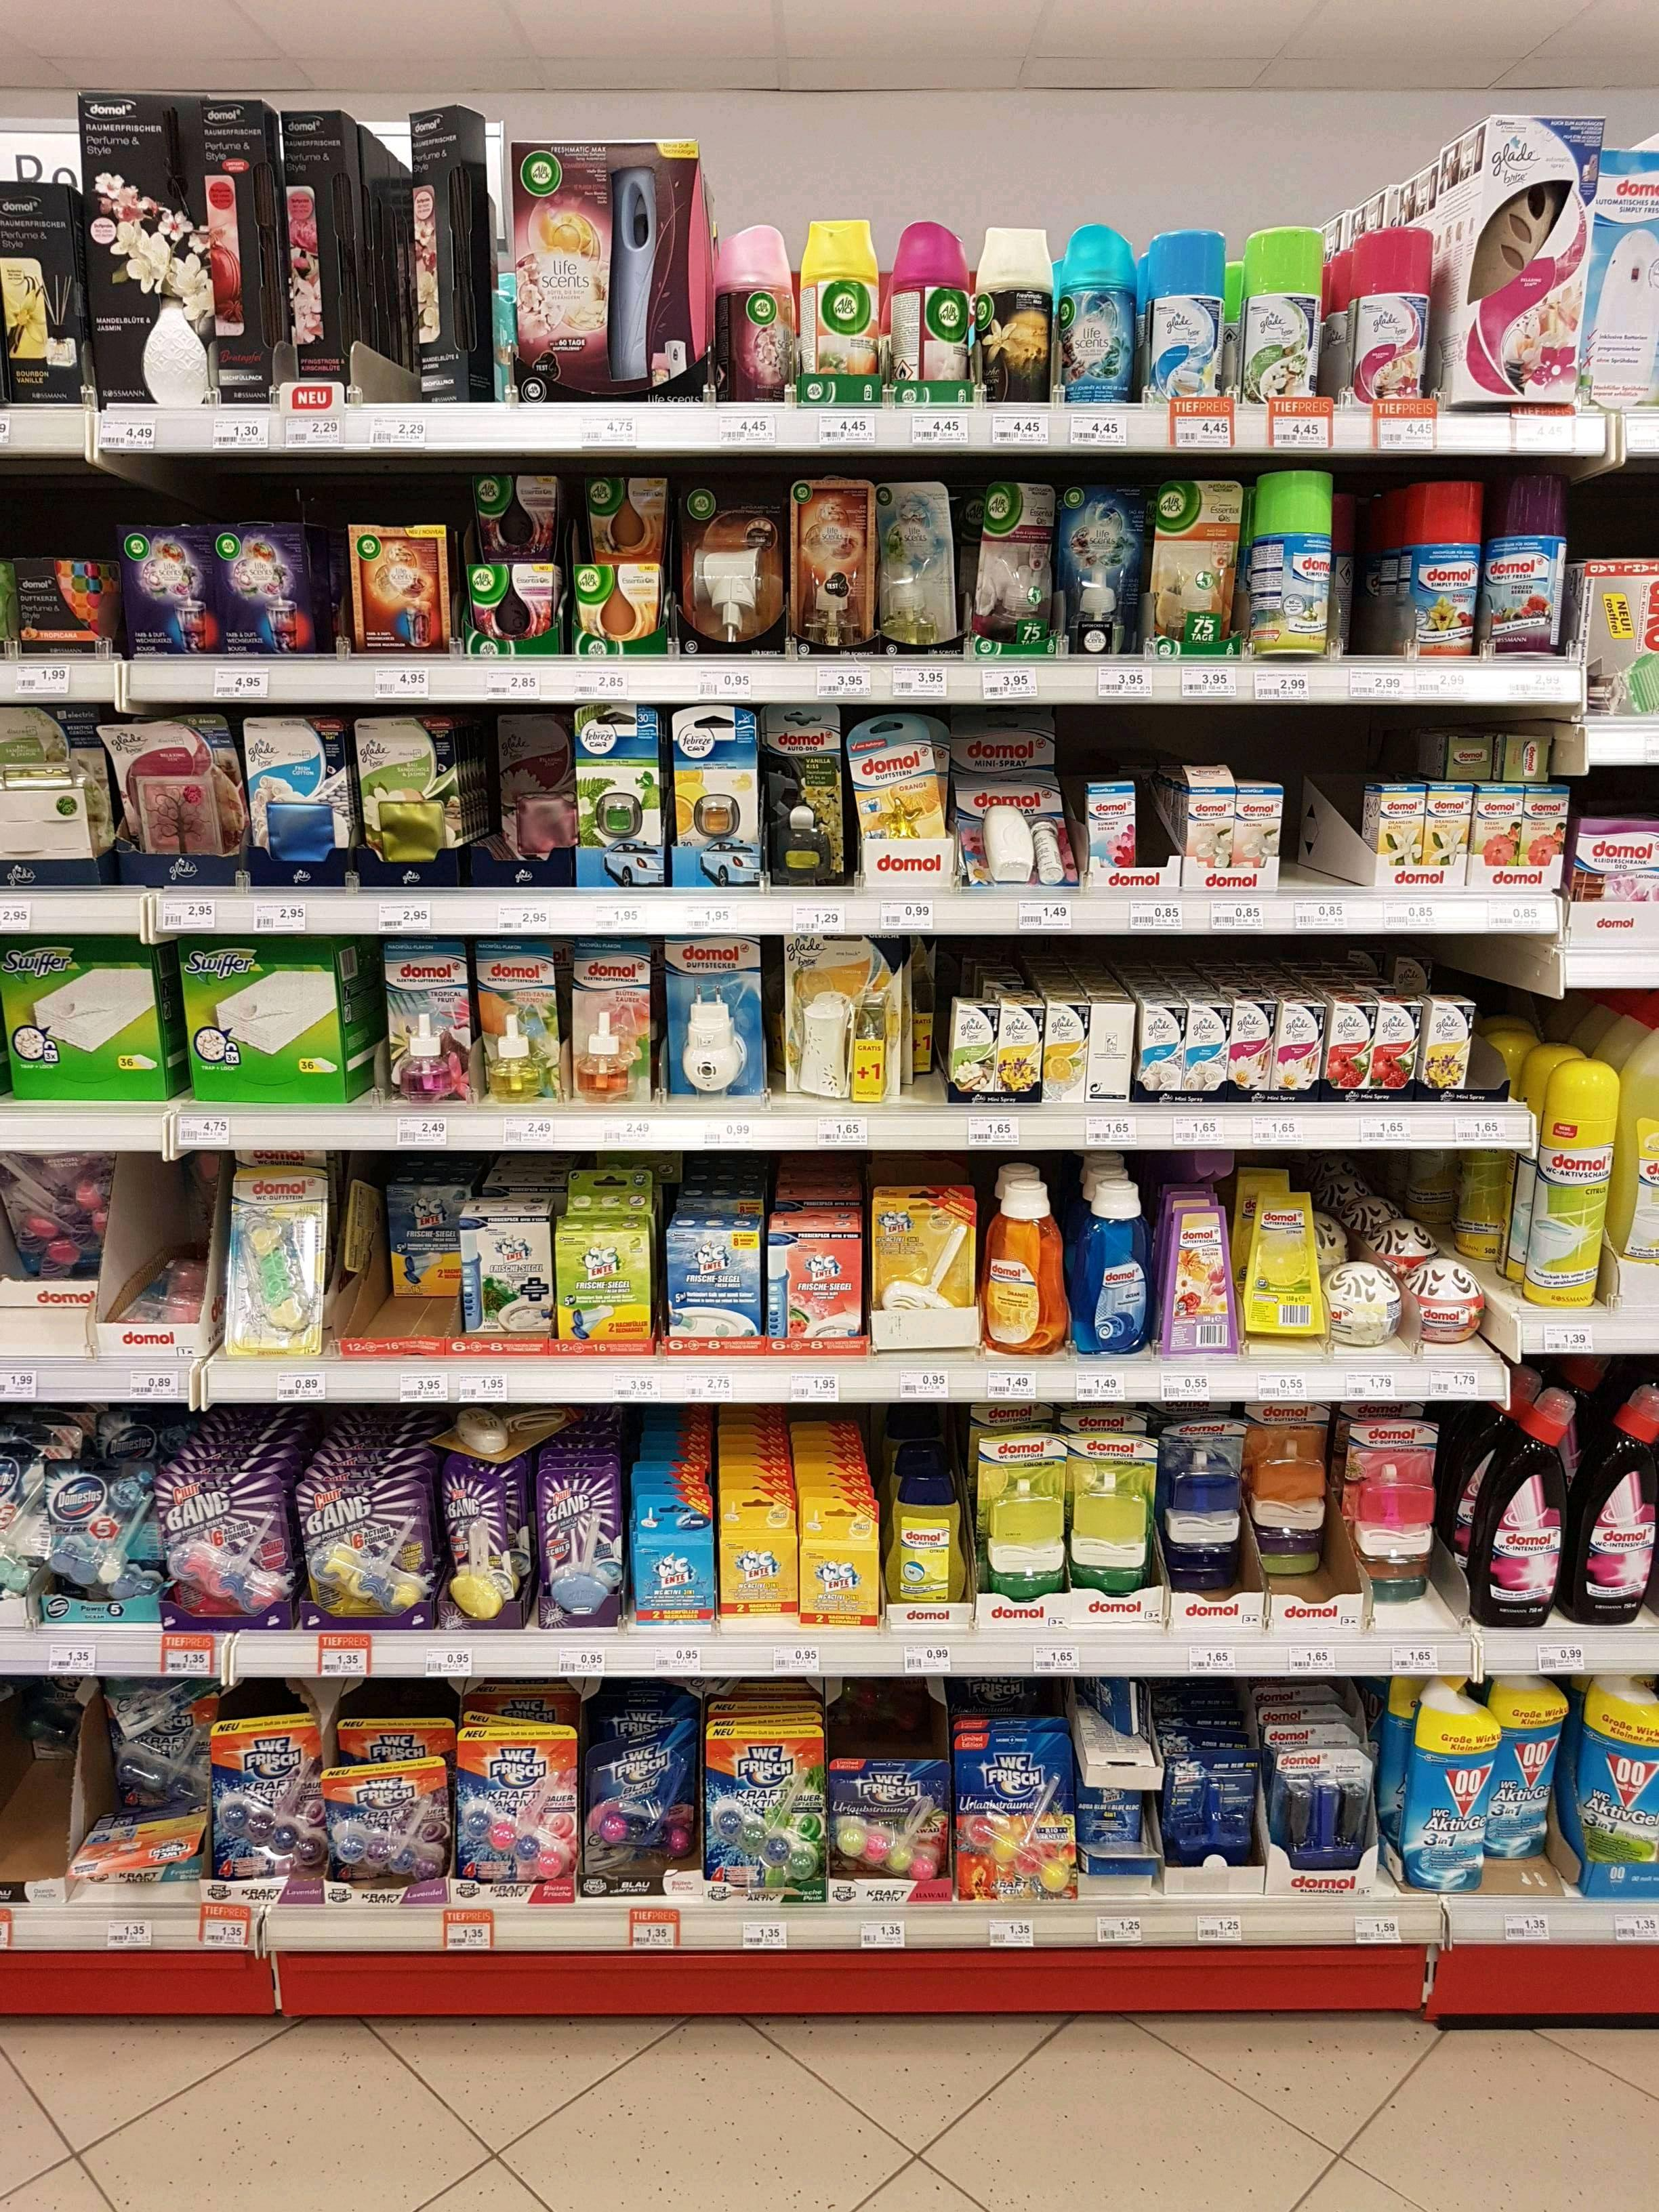misalignment: (317, 1754, 450, 1872), (71, 1792, 209, 1888), (964, 770, 1072, 892), (1068, 1677, 1168, 1797), (98, 1672, 220, 1770), (422, 1402, 575, 1458)
